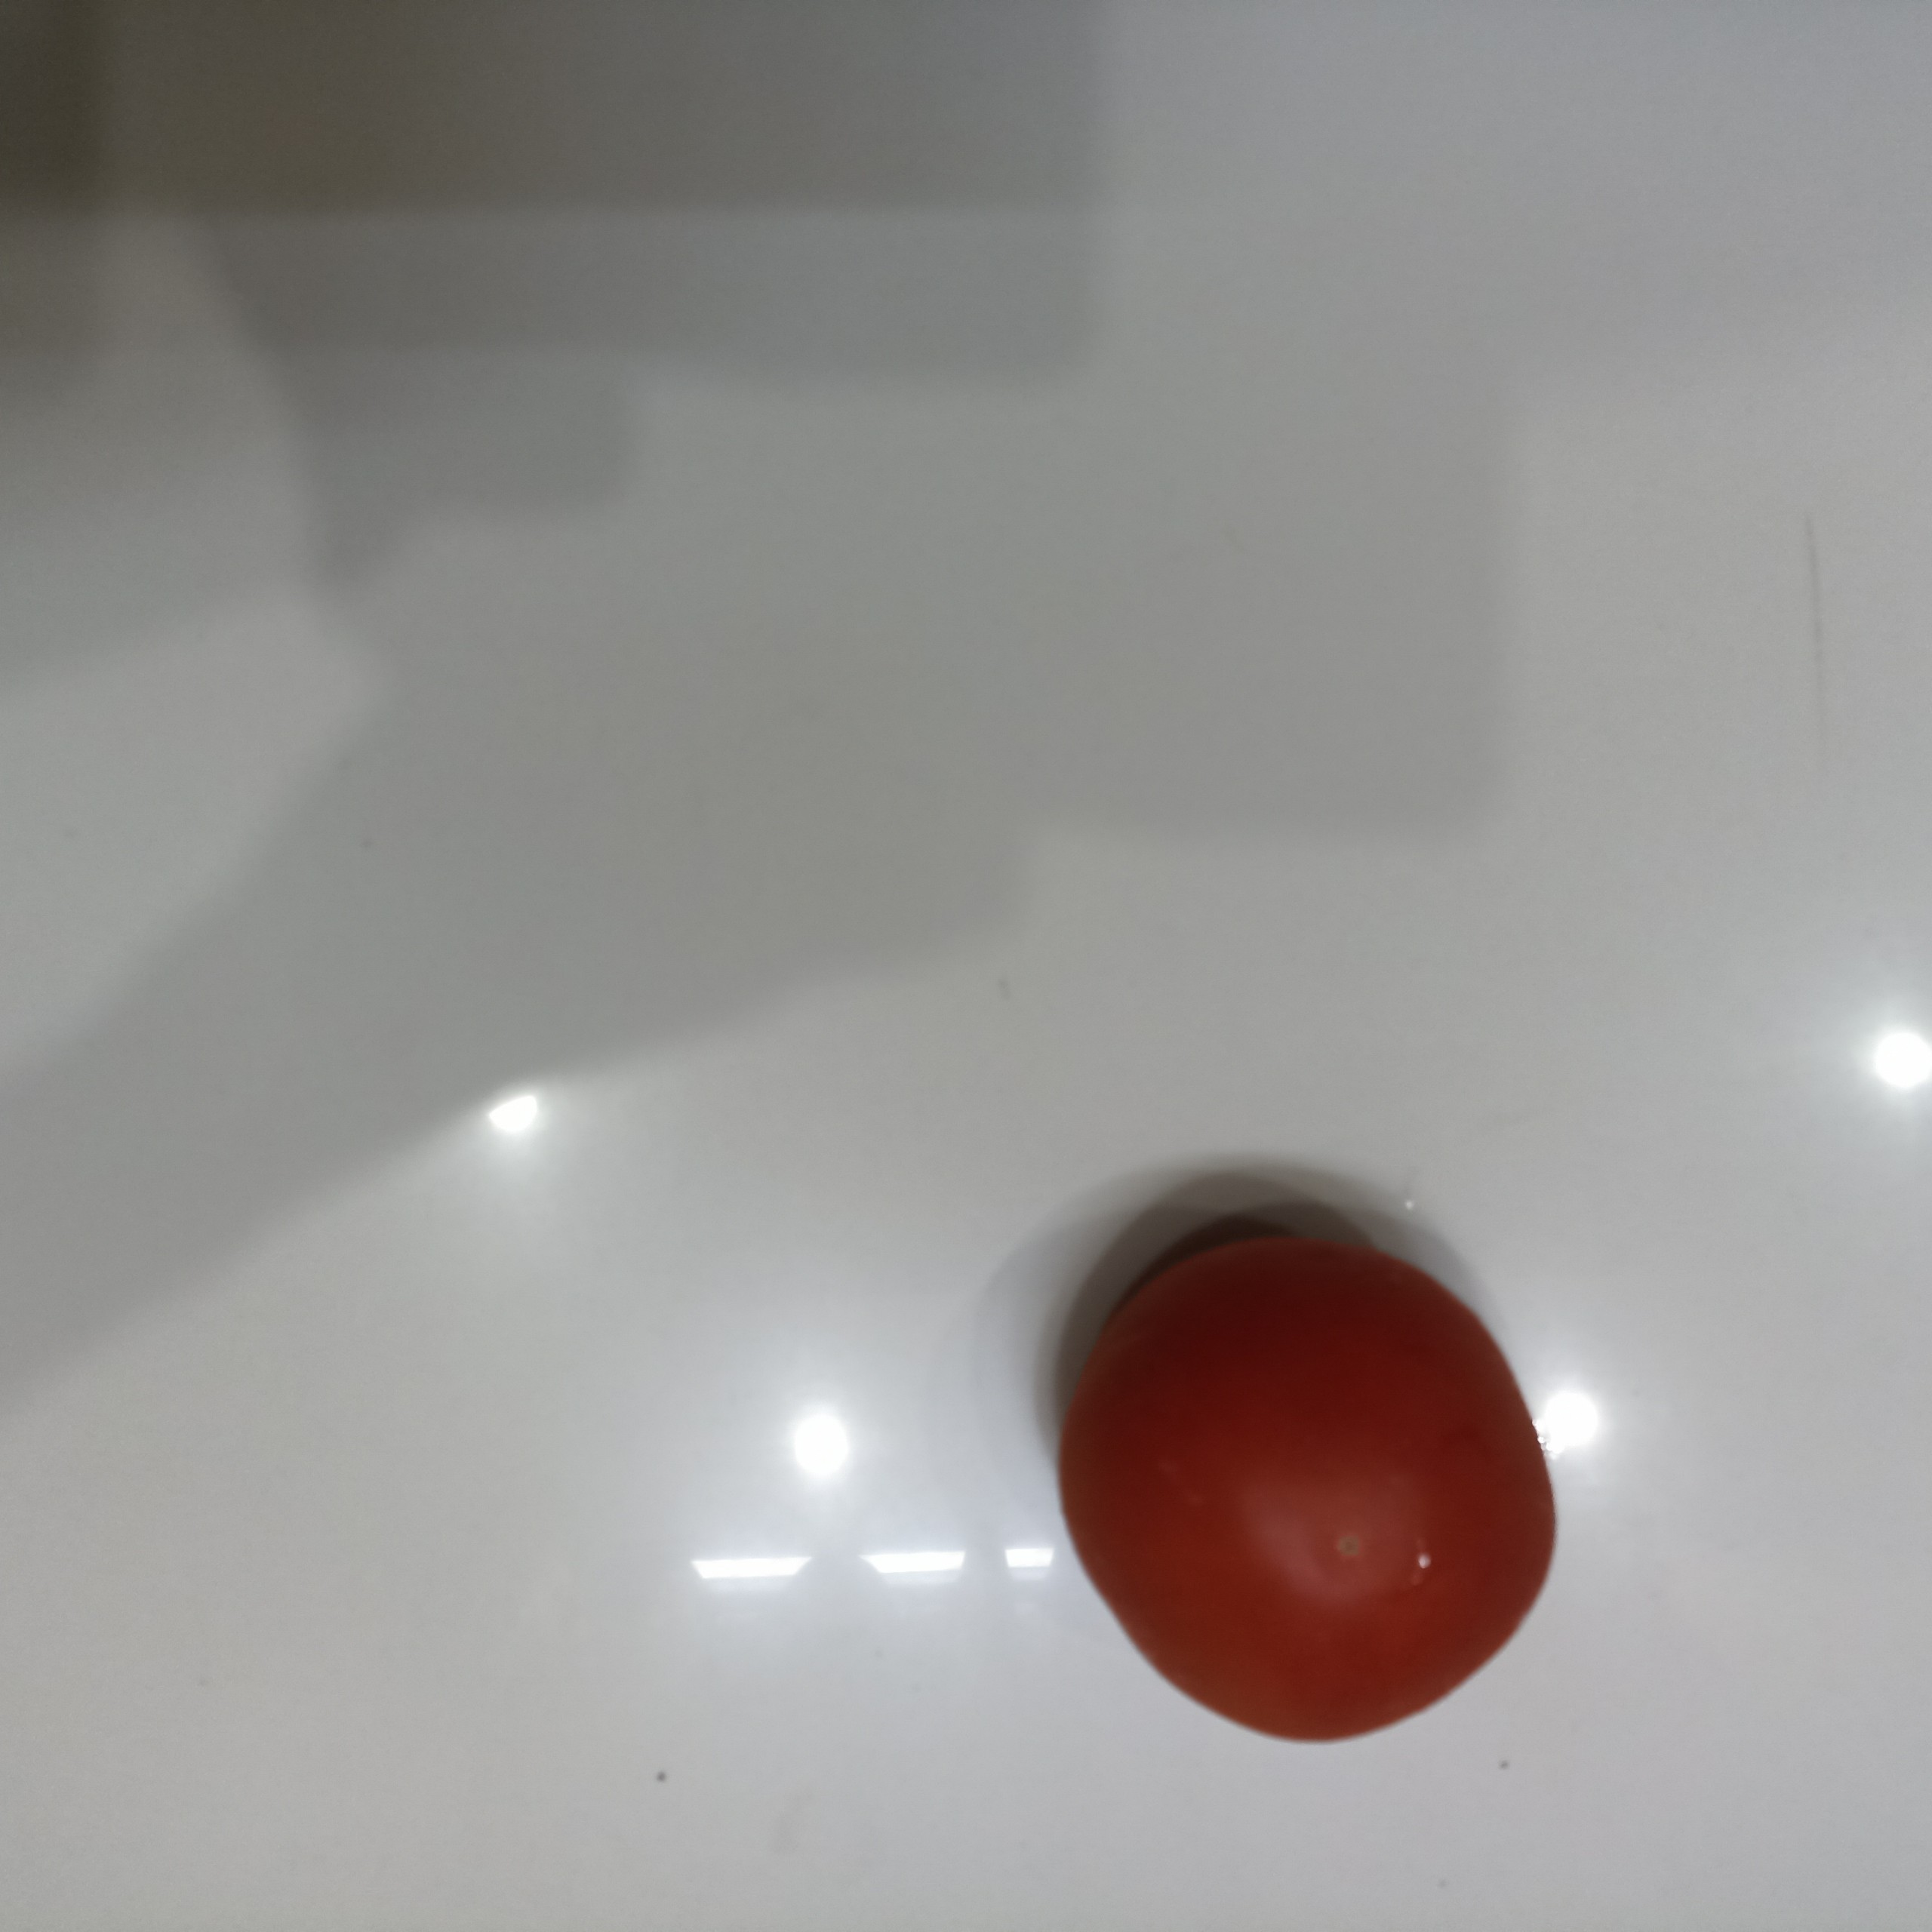Ca chua: (1051, 1224, 1564, 1746)
